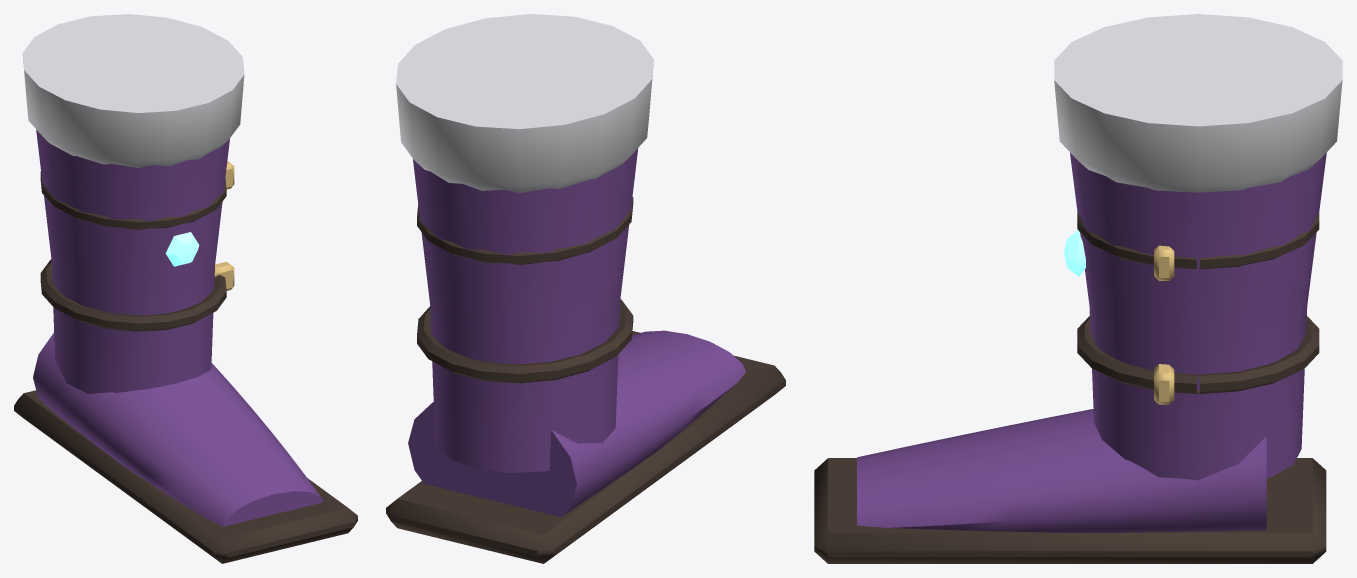
File: depth_prismkeeper_treads.glb
3 views of the same model, side by side, from view 1: azimuth 30°, elevation 25°; view 2: azimuth 150°, elevation 25°; view 3: azimuth 270°, elevation 25° (orthographic). The views are drawn at different scales.
Visible parts, largest first — view 1: depth_prismkeeper_treads; view 2: depth_prismkeeper_treads; view 3: depth_prismkeeper_treads.
Boxes of the visible parts, x1,y1,x2,y2 form: depth_prismkeeper_treads: [14, 14, 357, 563]; depth_prismkeeper_treads: [386, 14, 785, 563]; depth_prismkeeper_treads: [814, 14, 1342, 563].
Bounding box in the file's own units: 0.156 × 0.295 × 0.3095.
